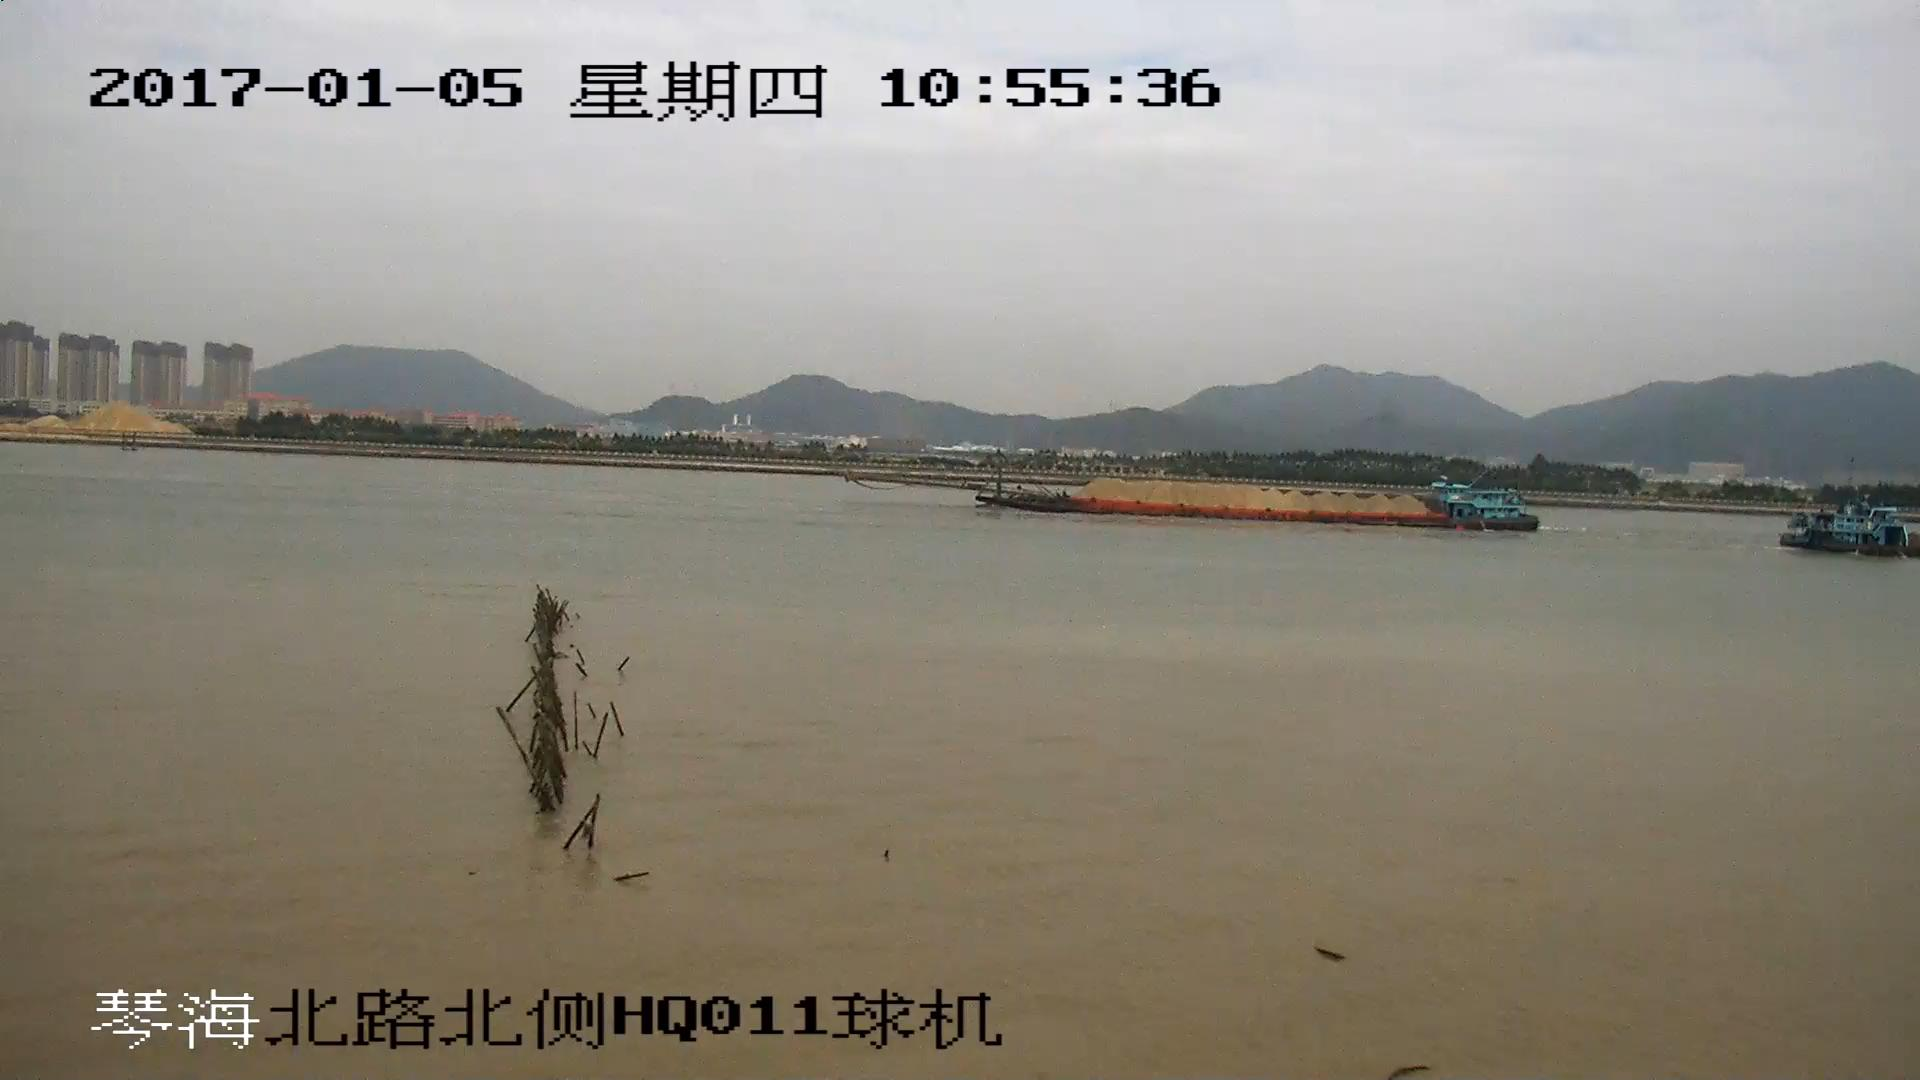ore carrier: (872, 454, 1540, 534)
